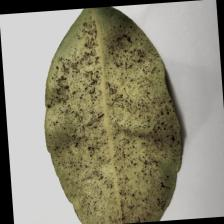canker: (45, 59, 186, 189)
